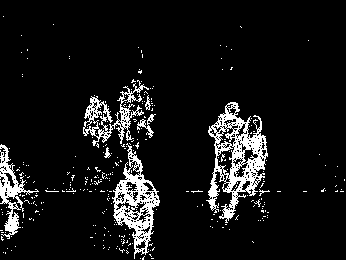person: (113, 158, 158, 259), (205, 101, 246, 209), (231, 116, 267, 220), (116, 83, 144, 153), (82, 93, 113, 153)
